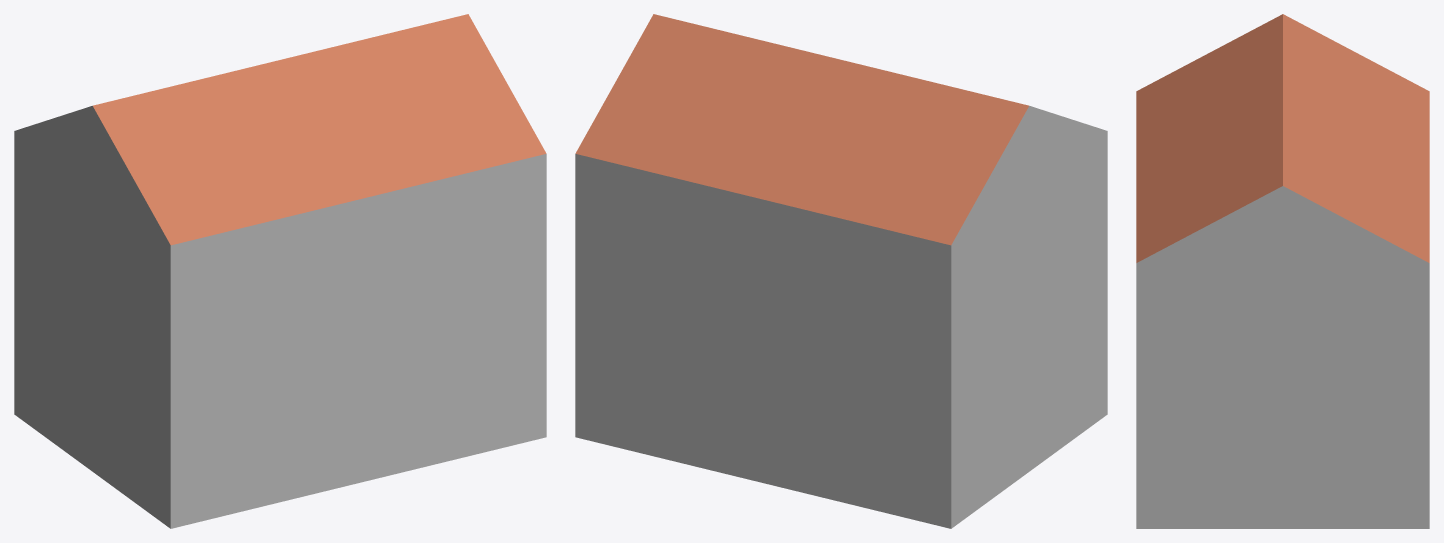
Rendered from House.fbx.
The picture shows the model from 3 angles, left to right: view 1: azimuth 30°, elevation 25°; view 2: azimuth 150°, elevation 25°; view 3: azimuth 270°, elevation 25°; orthographic projection. The views are drawn at different scales.
Parts seen in each view (by area): view 1: Cube; view 2: Cube; view 3: Cube.
Part boxes in pixels (left/top/right/bottom): Cube: left=14, top=14, right=546, bottom=528; Cube: left=575, top=14, right=1107, bottom=528; Cube: left=1136, top=14, right=1429, bottom=528.
Size of the model in its own units: 277 by 258 by 200.
